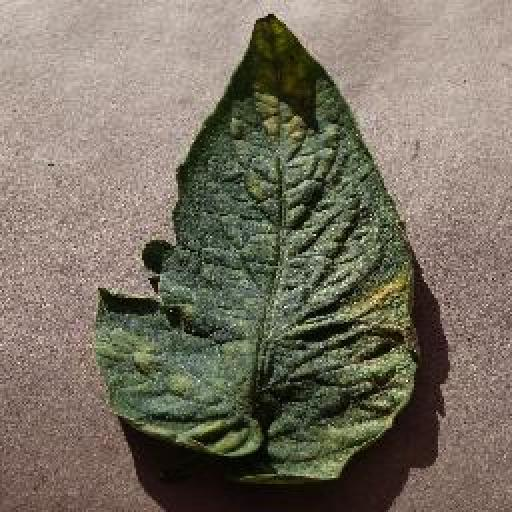disease_tomato: (93, 14, 419, 486)
